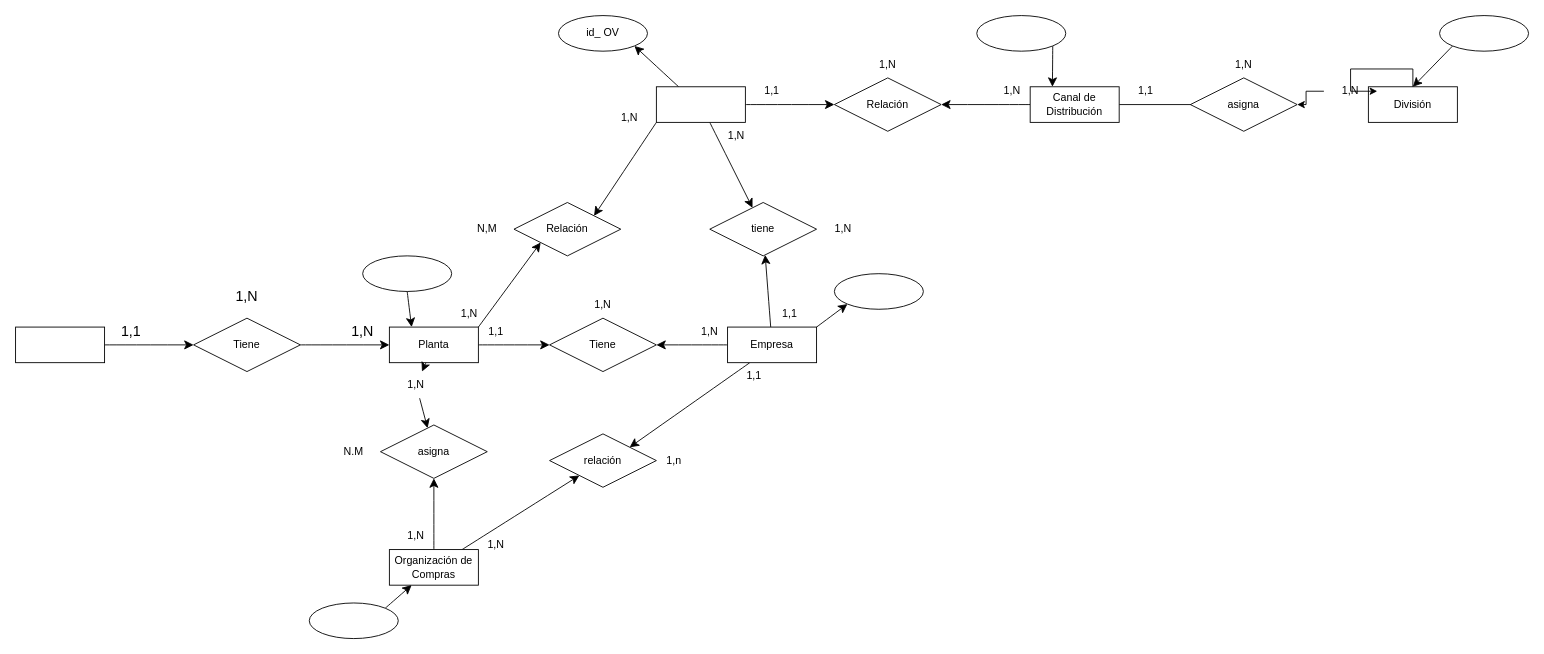
The diagram is 1544 pixels wide and 654 high, and some of its shapes have lost their labels. Here are the shapes that lost their labels. From the top down, the box of each, then its label:
(976, 15, 1066, 51): id_ CD
(1439, 15, 1529, 51): id_ división
(655, 86, 745, 122): Organización de ventas
(362, 255, 452, 291): id_Planta
(833, 273, 923, 309): id_Empresa
(15, 326, 105, 363): Almacén
(308, 602, 398, 639): id_ OC.
